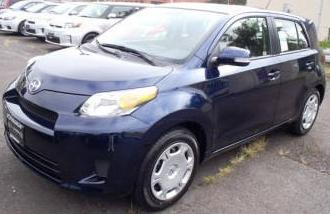front_view: (0, 66, 171, 201)
headlight: (75, 78, 167, 121)
side_glass: (210, 12, 301, 59)
